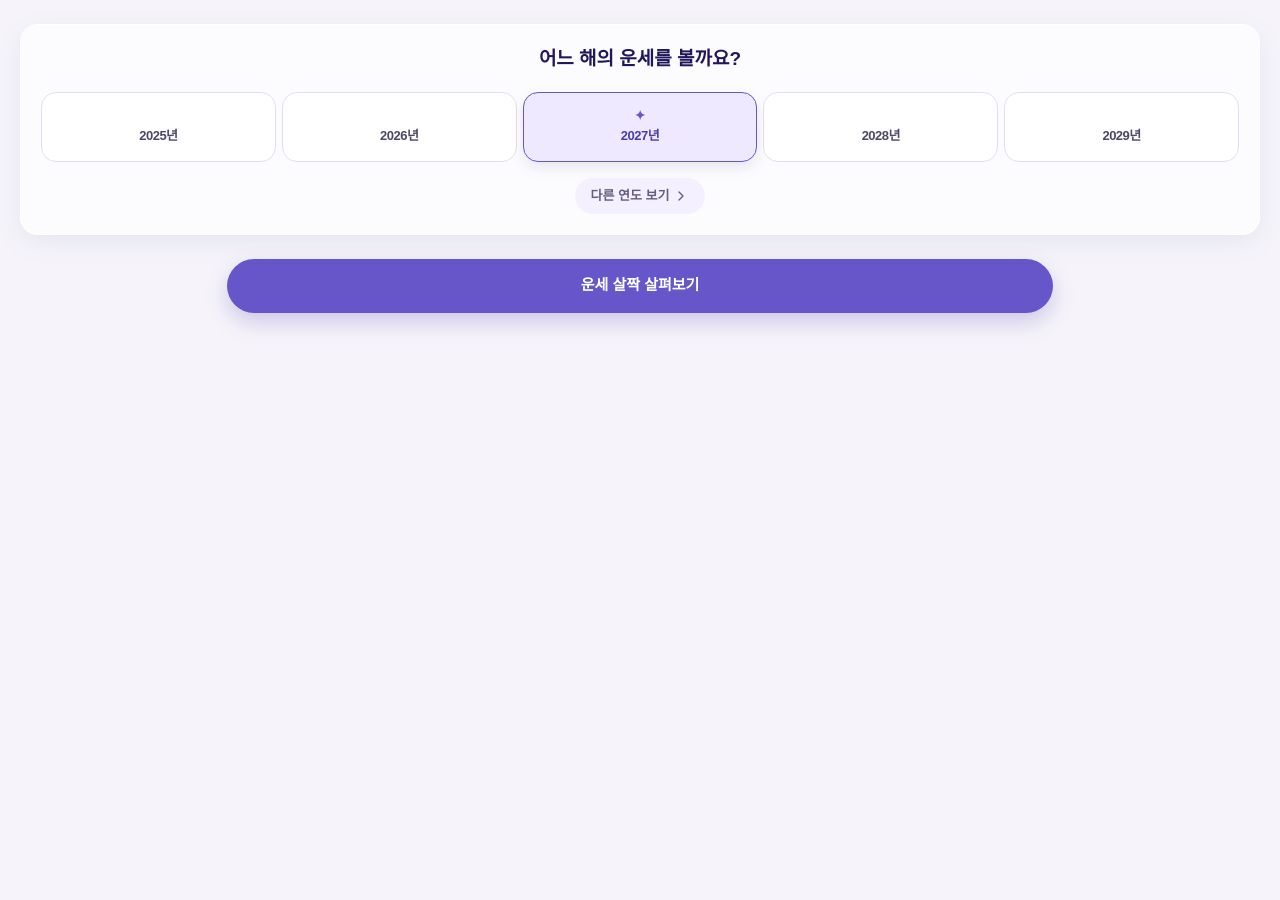
Test case: YearlyFortuneYearPicker › supports quick cards and keeps the full year list in a sheet
Later steps or results of the test are not shown.
Expected: the button named "2027년 선택" shows "✦", [523,92,757,162]
Click the button named "2029년 선택": point(1122, 126) [1004,92,1239,162]
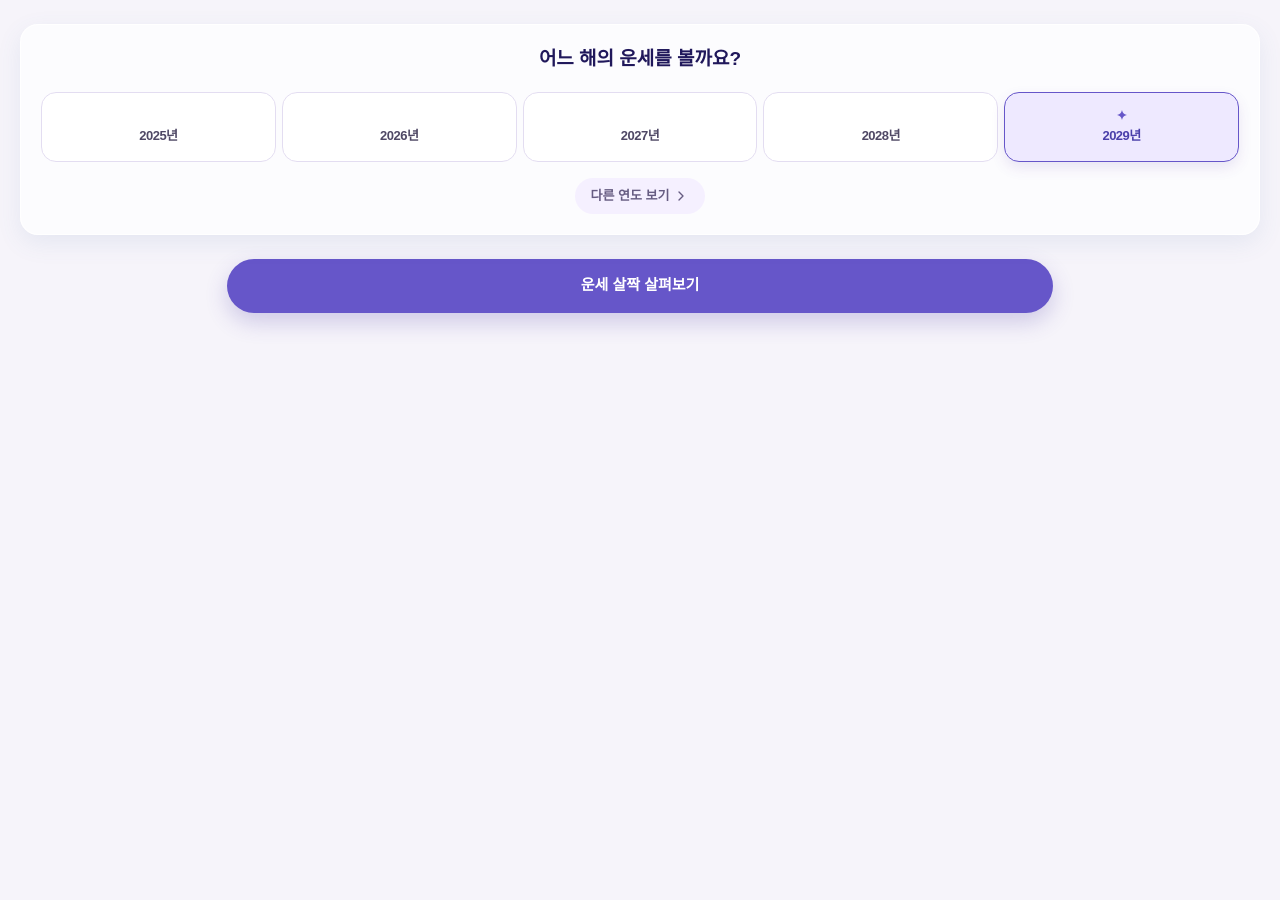
Result: the button named "2029년 선택" is pressed at [1004,92,1239,162]
Click the button "다른 연도 보기": point(640, 196) [574,178,706,214]
(page scrolled)
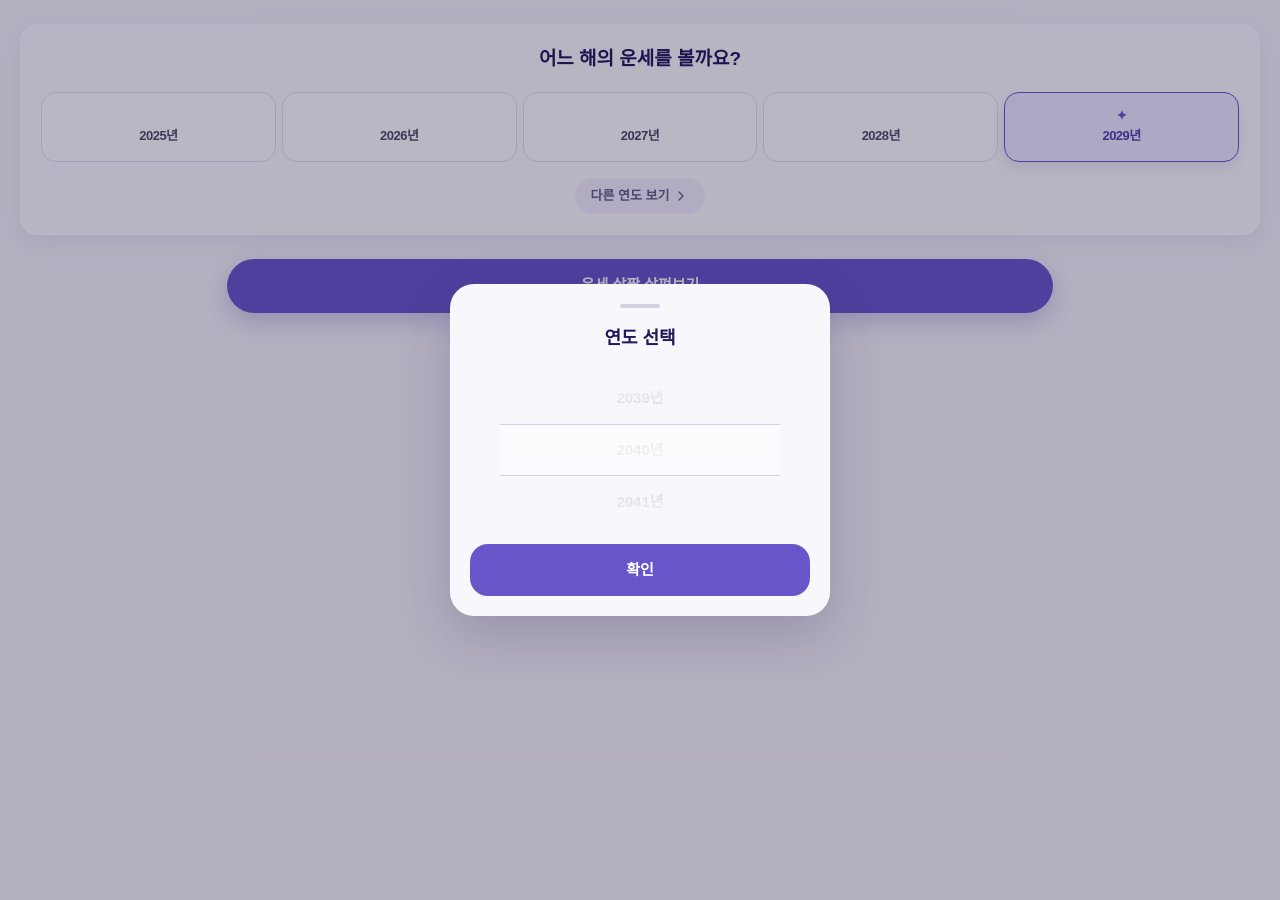
Click the option "2040년": point(640, 450) [500,424,780,476]
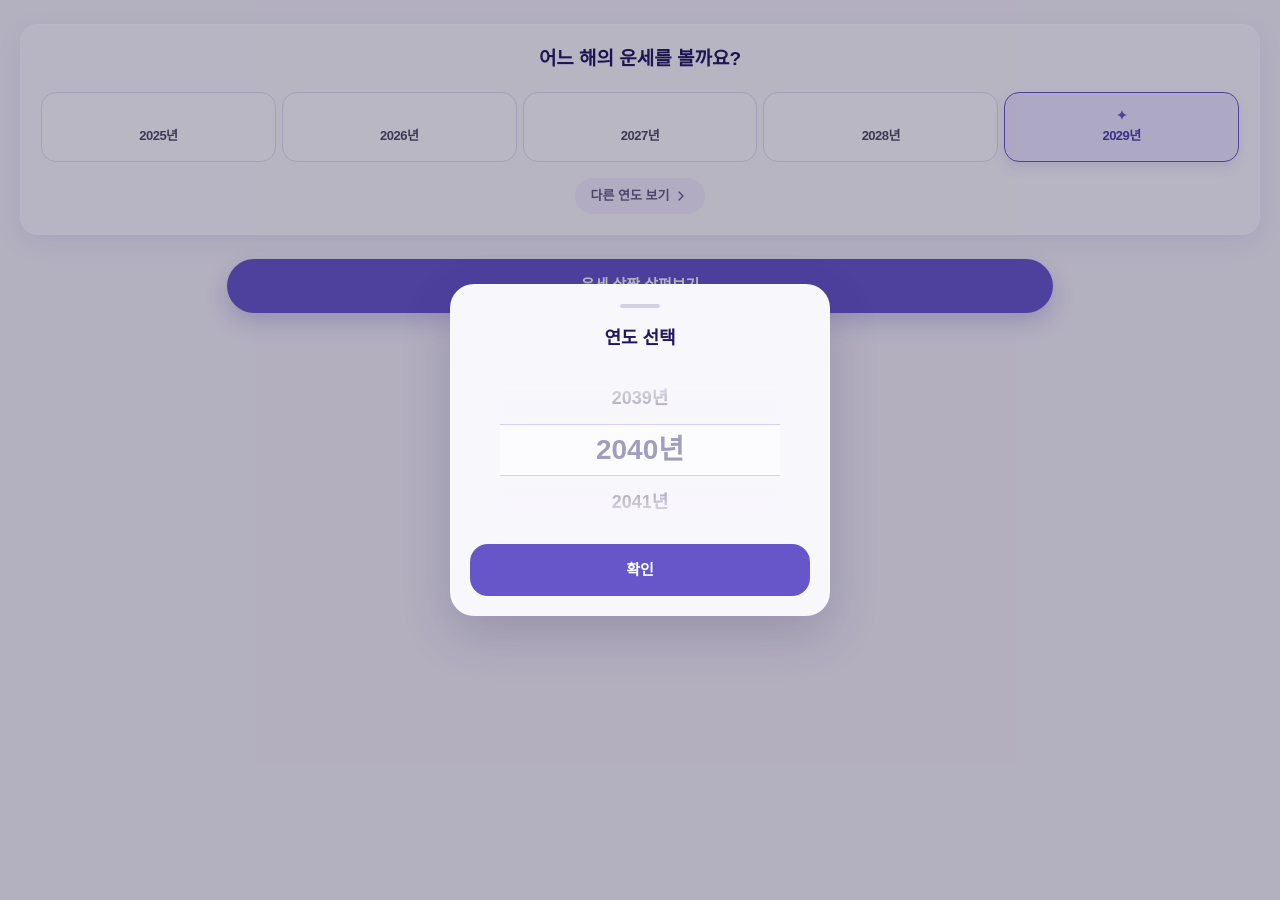
Expected: the button named "2029년 선택" is shown, [1004,92,1239,162]
Result: the option "2040년" is selected at [500,424,780,476]
Click the button "확인": point(640, 570) [470,544,810,596]
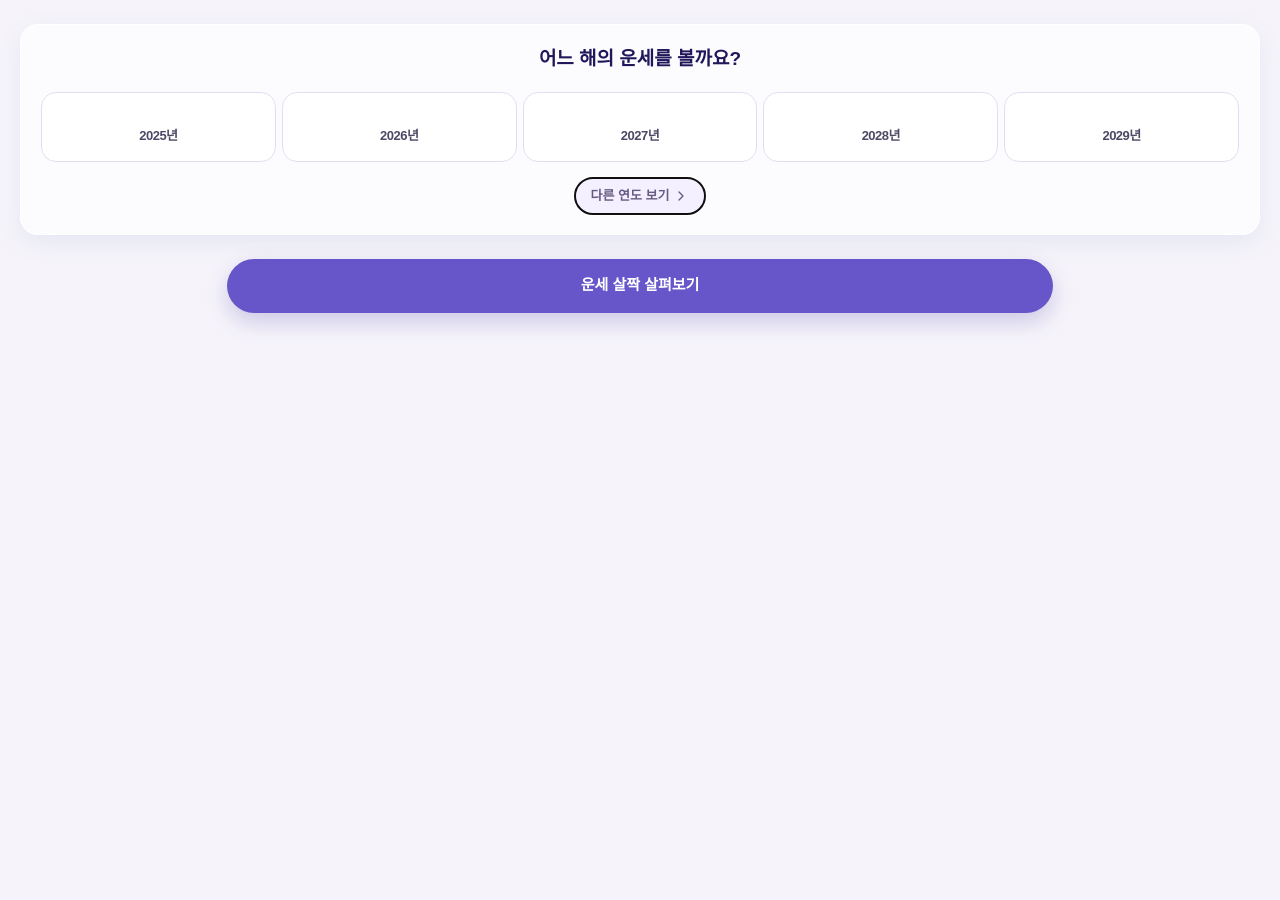
Expected: the button "운세 살짝 살펴보기" is shown, [227,258,1053,312]
Result: the dialog is gone
Result: no the button "확인" are shown
